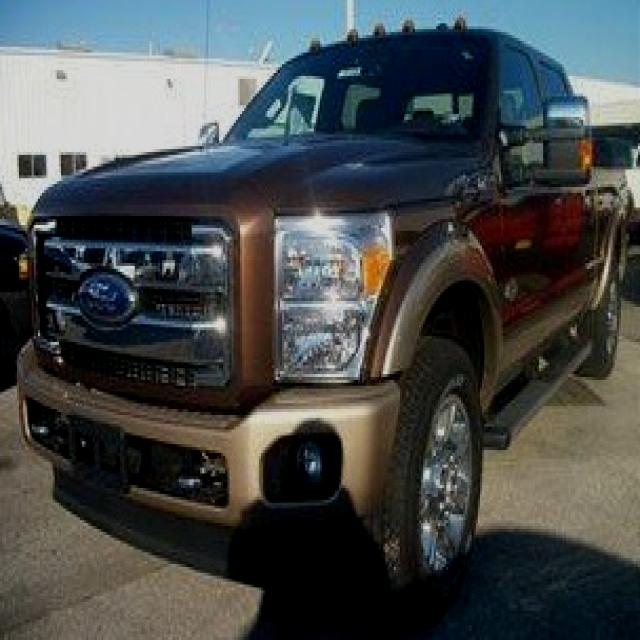CMT: (11, 22, 622, 616)
